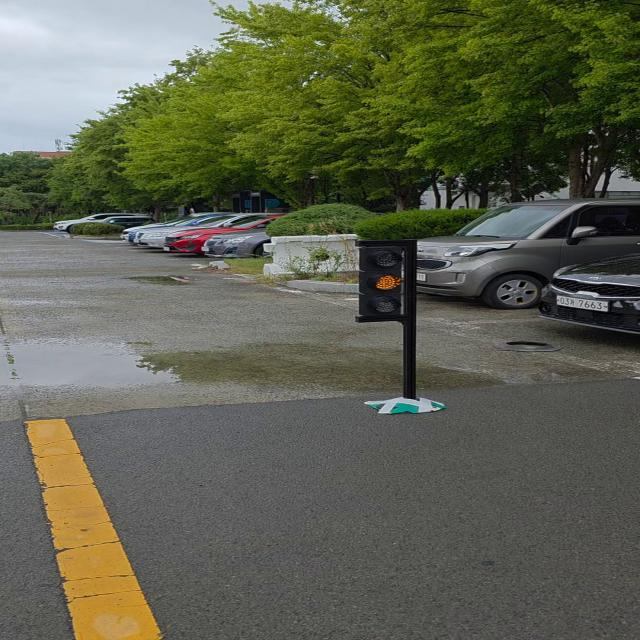yellow: (358, 240, 412, 322)
